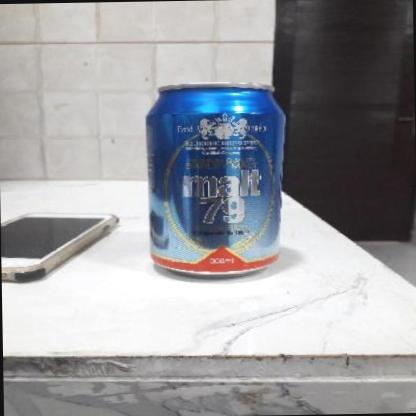alumunium_can: (146, 80, 285, 280)
